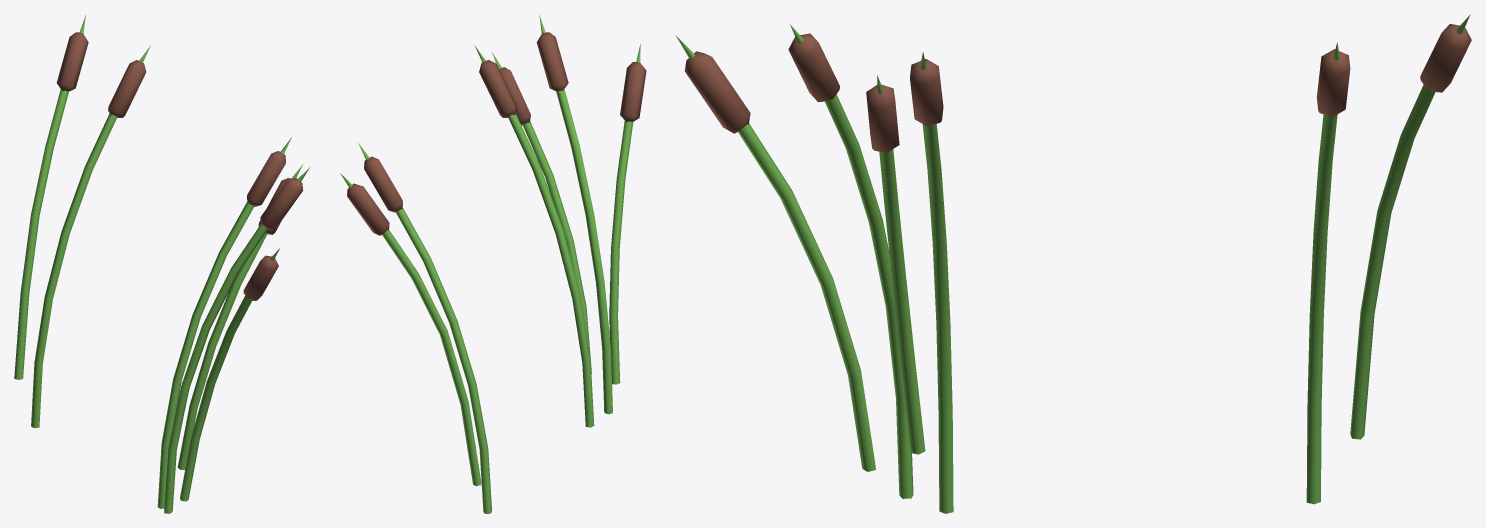
The model's file is plants-d8dca352.glb.
3 renders of one model, left to right at view 1: azimuth 30°, elevation 25°; view 2: azimuth 150°, elevation 25°; view 3: azimuth 270°, elevation 25°, orthographic. The views are drawn at different scales.
Visible parts, largest first — view 1: Cylinder020, Cylinder015, Cylinder018, Cylinder019, Cylinder017, Cylinder016, Capsule005, Capsule006, Capsule001, Capsule004, Capsule002; view 2: Cylinder015, Cylinder018, Cylinder020, Cylinder019, Cylinder016, Cylinder017, Capsule001, Capsule002, Capsule004, Capsule005, Capsule006, Capsule003; view 3: Cylinder018, Cylinder020, Cylinder016, Cylinder019, Cylinder015, Cylinder017, Capsule002, Capsule005, Capsule001, Capsule006, Capsule004, Capsule003.
Part boxes in pixels (x1,y1,x2,y2): Cylinder020: [31, 113, 117, 428]; Cylinder015: [164, 224, 267, 513]; Cylinder018: [157, 202, 254, 508]; Cylinder019: [14, 89, 68, 379]; Cylinder017: [177, 233, 267, 469]; Cylinder016: [180, 295, 251, 501]; Capsule005: [56, 32, 88, 91]; Capsule006: [108, 60, 146, 117]; Capsule001: [260, 178, 303, 230]; Capsule004: [247, 151, 285, 206]; Capsule002: [243, 255, 278, 300]; Cylinder015: [556, 89, 612, 414]; Cylinder018: [508, 113, 594, 427]; Cylinder020: [395, 207, 491, 513]; Cylinder019: [382, 230, 481, 486]; Cylinder016: [609, 120, 633, 384]; Cylinder017: [522, 121, 591, 373]; Capsule001: [536, 32, 568, 91]; Capsule002: [620, 62, 646, 121]; Capsule004: [479, 60, 517, 117]; Capsule005: [347, 183, 389, 235]; Capsule006: [364, 156, 402, 212]; Capsule003: [499, 67, 530, 125]; Cylinder018: [922, 124, 953, 513]; Cylinder020: [1306, 114, 1337, 504]; Cylinder016: [738, 123, 875, 471]; Cylinder019: [1350, 85, 1435, 439]; Cylinder015: [824, 94, 913, 498]; Cylinder017: [879, 149, 925, 454]; Capsule002: [684, 51, 750, 133]; Capsule005: [1420, 24, 1471, 92]; Capsule001: [788, 33, 839, 102]; Capsule006: [1316, 49, 1350, 116]; Capsule004: [910, 59, 943, 126]; Capsule003: [866, 84, 899, 152].
Size of the model in its own units: 69.34 by 163 by 209.
